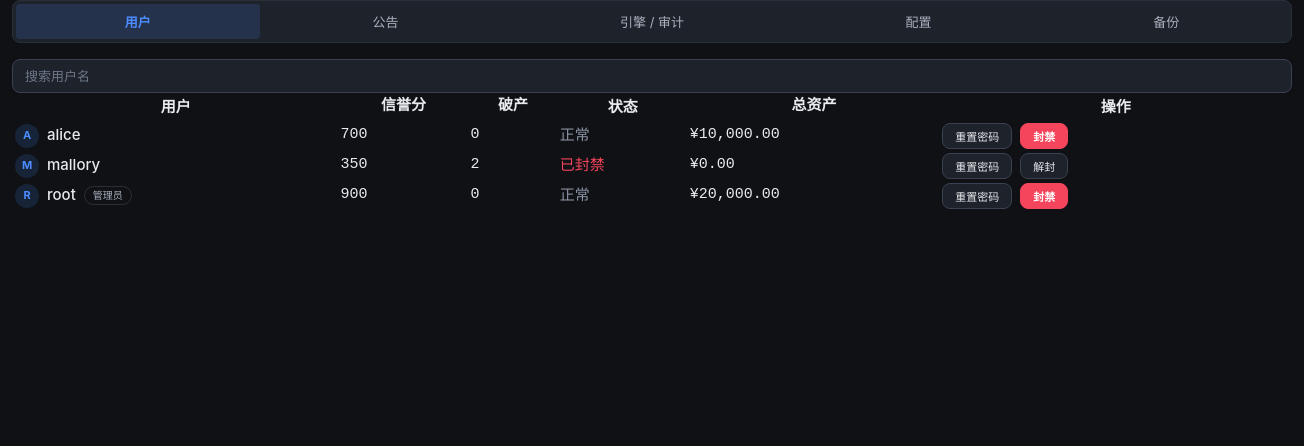
Test: 审计结果 › ⚠️ failures 非空时红字逐条列出
Expected: the element with test id "admin-panel" is shown, [12,0,1292,212]
Click the button with test id "admin-tab-audit".
click(652, 22)  # box [511,4,793,39]
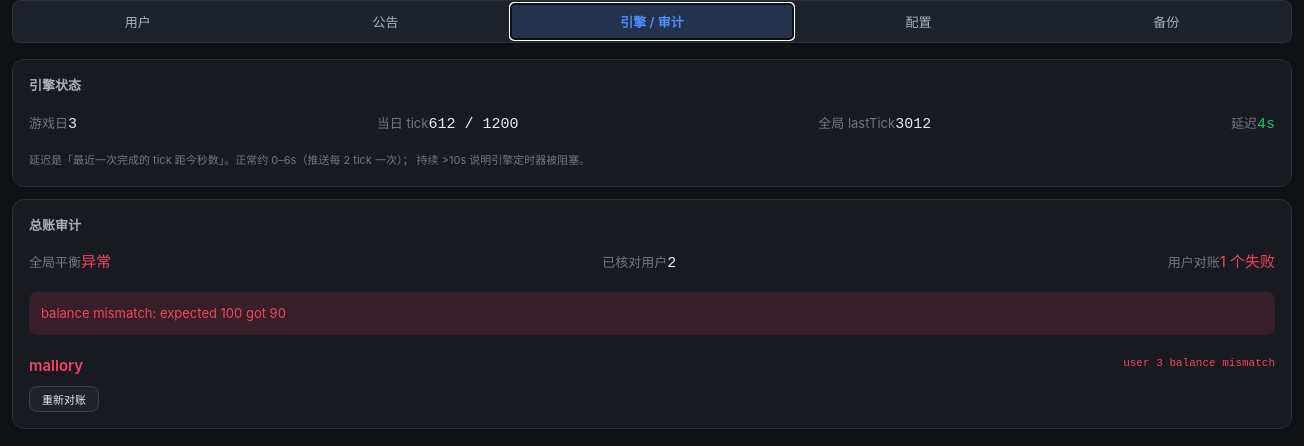
Now the text with test id "audit-global" reads "异常", box [81,252,111,271]
Now the list with test id "audit-failures" shows "mallory", box [29,356,83,375]
Now the list with test id "audit-failures" shows "user 3 balance mismatch", box [1123,357,1275,369]
